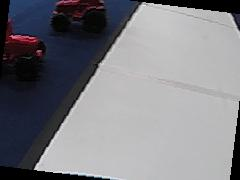Tracktor: (4, 14, 46, 84), (48, 0, 106, 34)
